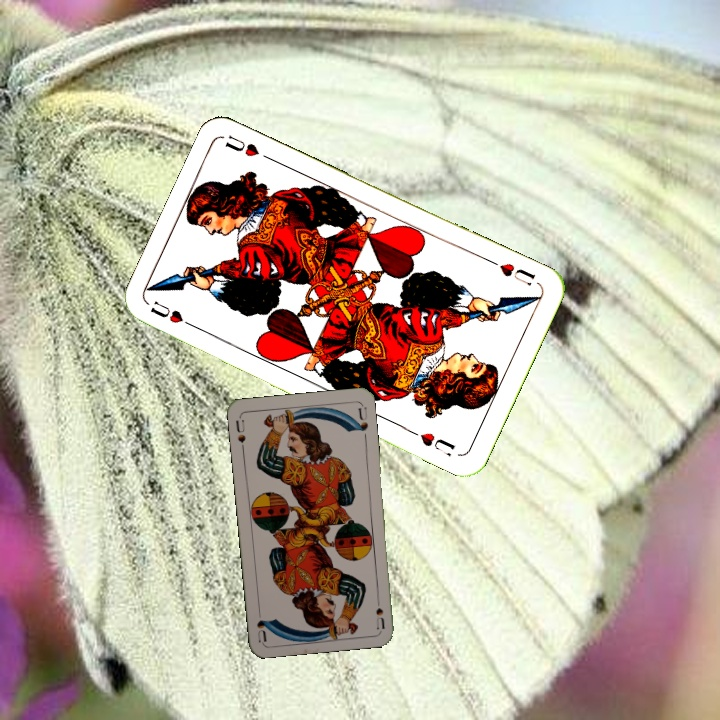HU: (146, 297, 201, 332), (485, 255, 538, 289)
SU: (231, 414, 248, 454), (372, 590, 388, 631)
